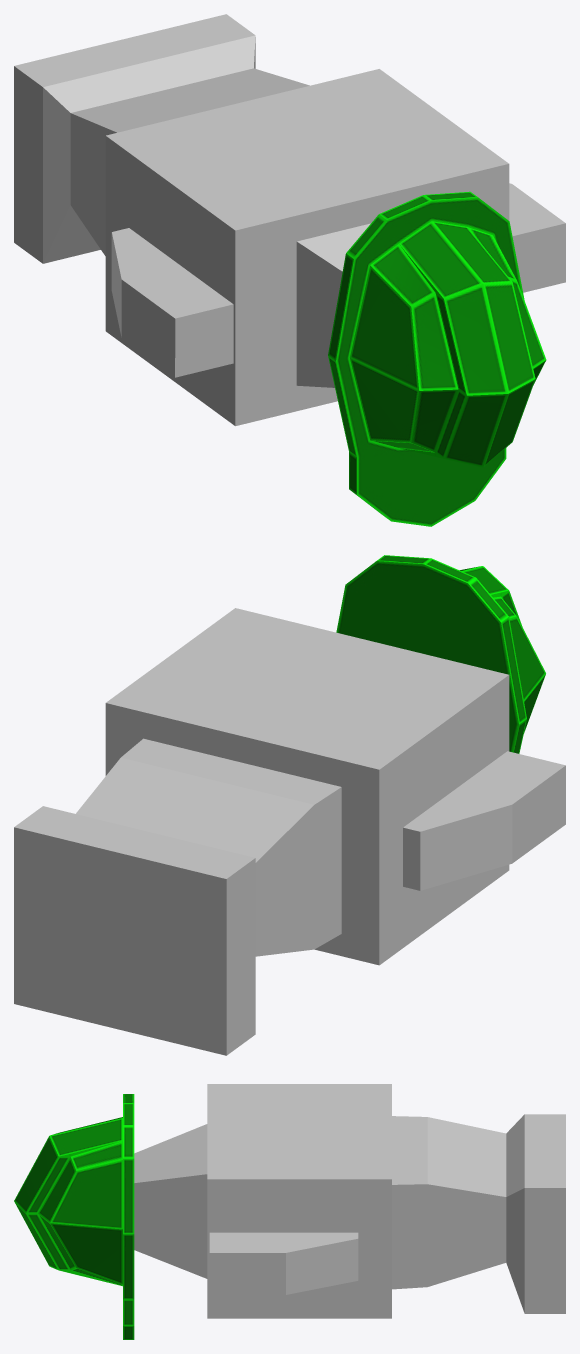
File: Lil.obj
3 views of the same model, one above another, from view 1: azimuth 30°, elevation 25°; view 2: azimuth 150°, elevation 25°; view 3: azimuth 270°, elevation 25° (orthographic). The views are drawn at different scales.
Parts seen in each view (by area): view 1: polySurface55; view 2: polySurface55; view 3: polySurface55.
Part boxes in pixels (x1,y1,x2,y2): polySurface55: [14, 14, 565, 526]; polySurface55: [14, 555, 565, 1055]; polySurface55: [14, 1084, 565, 1339].
Size of the model in its own units: 3 by 2.39 by 5.15.
